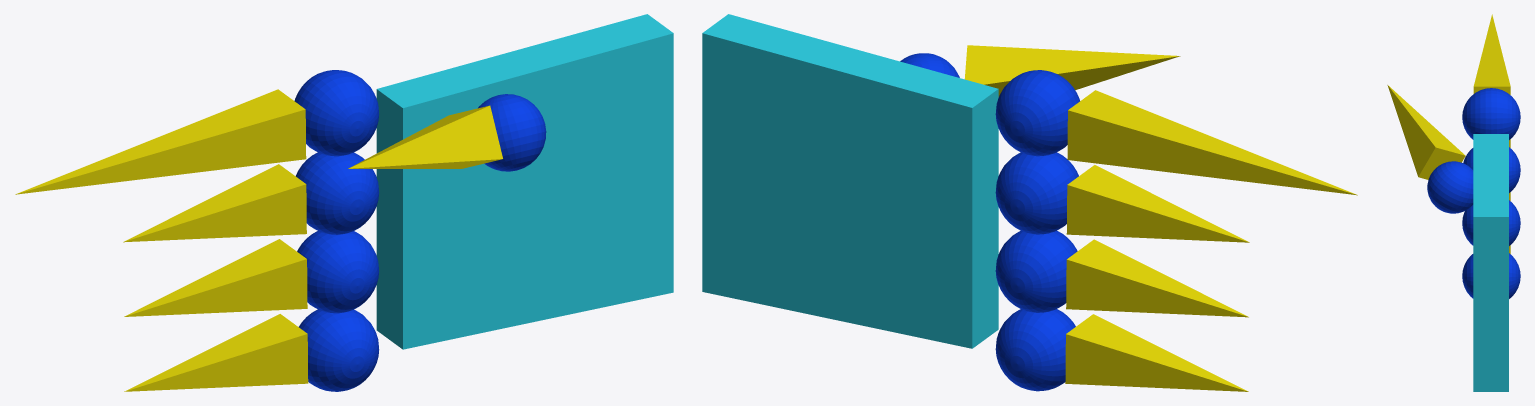
The model's file is Hand.fbx.
3 views of the same model, side by side, from view 1: azimuth 30°, elevation 25°; view 2: azimuth 150°, elevation 25°; view 3: azimuth 270°, elevation 25° (orthographic). The views are drawn at different scales.
Parts seen in each view (by area): view 1: Plane, Pyramid, Sphere, Pyramid.001, Sphere.001; view 2: Plane, Pyramid, Sphere, Pyramid.001, Sphere.001; view 3: Plane, Sphere, Pyramid.001, Sphere.001, Pyramid.
Part boxes in pixels (x1,y1,x2,y2): Plane: (376,14,673,349); Pyramid: (15,89,308,391); Sphere: (294,70,379,391); Pyramid.001: (348,105,502,168); Sphere.001: (478,94,546,171); Plane: (702,14,998,348); Pyramid: (1065,90,1357,391); Sphere: (995,70,1079,391); Pyramid.001: (964,45,1180,96); Sphere.001: (900,53,959,77); Plane: (1473,134,1508,391); Sphere: (1462,88,1520,298); Pyramid.001: (1387,85,1465,179); Sphere.001: (1427,161,1473,213); Pyramid: (1473,14,1510,253).
Size of the model in its own units: 330 by 154 by 87.58.
